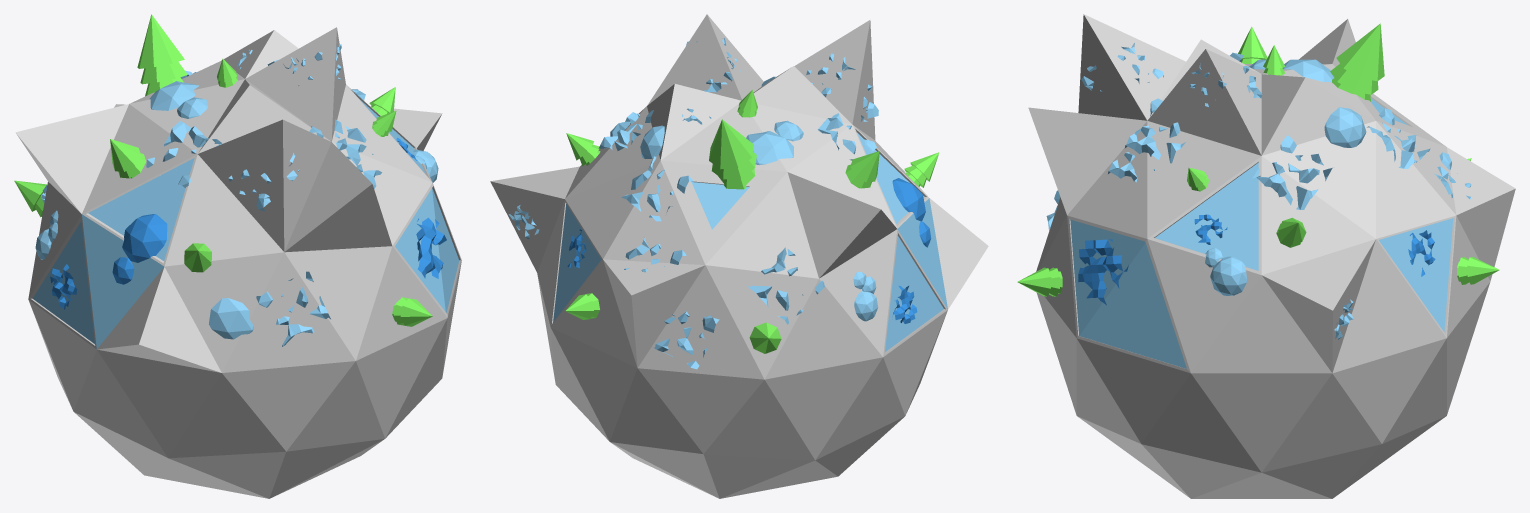
The model's file is planet_Icebergs.fbx.
3 renders of one model, left to right at view 1: azimuth 30°, elevation 25°; view 2: azimuth 150°, elevation 25°; view 3: azimuth 270°, elevation 25°, orthographic. The views are drawn at different scales.
Parts seen in each view (by area): view 1: Icosphere, Icosphere.001, Icosphere.007, Plane.002, Plane.022, Plane.011, Plane.006, Plane.004; view 2: Icosphere, Icosphere.001, Plane.009, Plane.010, Plane.021, Plane.008, Plane.011, Plane.004, Plane.020; view 3: Icosphere, Icosphere.001, Plane.002, Plane.008, Plane.006, Plane.009, Plane.001.
Boxes of the visible parts, x1=… form: Icosphere: x1=14, y1=14, x2=461, y2=498; Icosphere.001: x1=35, y1=81, x2=438, y2=284; Icosphere.007: x1=209, y1=298, x2=253, y2=339; Plane.002: x1=416, y1=217, x2=446, y2=278; Plane.022: x1=256, y1=271, x2=330, y2=346; Plane.011: x1=146, y1=121, x2=222, y2=187; Plane.006: x1=309, y1=119, x2=366, y2=165; Plane.004: x1=50, y1=264, x2=77, y2=309; Icosphere: x1=490, y1=14, x2=988, y2=498; Icosphere.001: x1=640, y1=120, x2=931, y2=321; Plane.009: x1=621, y1=156, x2=693, y2=221; Plane.010: x1=748, y1=247, x2=824, y2=324; Plane.021: x1=653, y1=311, x2=719, y2=369; Plane.008: x1=598, y1=110, x2=653, y2=150; Plane.011: x1=817, y1=108, x2=876, y2=160; Plane.004: x1=893, y1=286, x2=917, y2=323; Plane.020: x1=624, y1=237, x2=686, y2=272; Icosphere: x1=1017, y1=14, x2=1515, y2=498; Icosphere.001: x1=1205, y1=59, x2=1366, y2=295; Plane.002: x1=1078, y1=239, x2=1128, y2=305; Plane.008: x1=1252, y1=135, x2=1332, y2=209; Plane.006: x1=1125, y1=98, x2=1185, y2=163; Plane.009: x1=1367, y1=108, x2=1430, y2=168; Plane.001: x1=1408, y1=230, x2=1435, y2=276.
Bounding box in the file's own units: 219 × 228 × 218.
